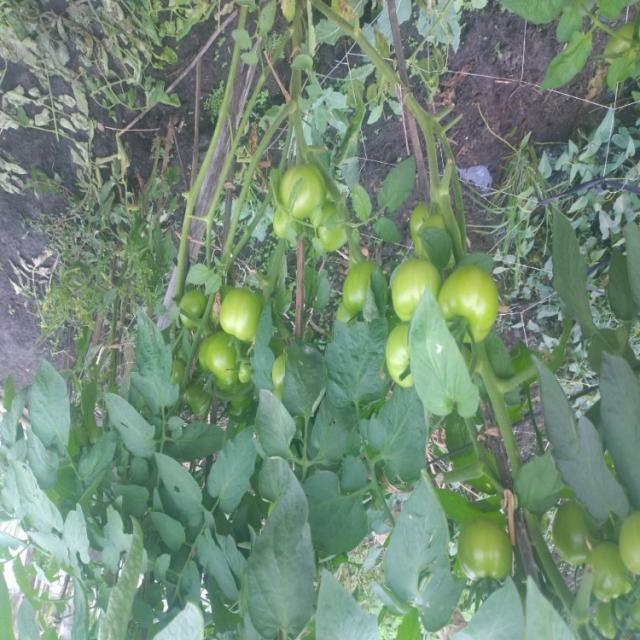tomato: (571, 533, 640, 615), (436, 261, 507, 338), (204, 281, 279, 351), (462, 524, 528, 589), (187, 336, 255, 394), (334, 264, 387, 327), (301, 203, 362, 253), (380, 258, 438, 307), (378, 331, 427, 372), (160, 283, 209, 323), (556, 504, 586, 558), (279, 164, 322, 200), (610, 514, 640, 565)
